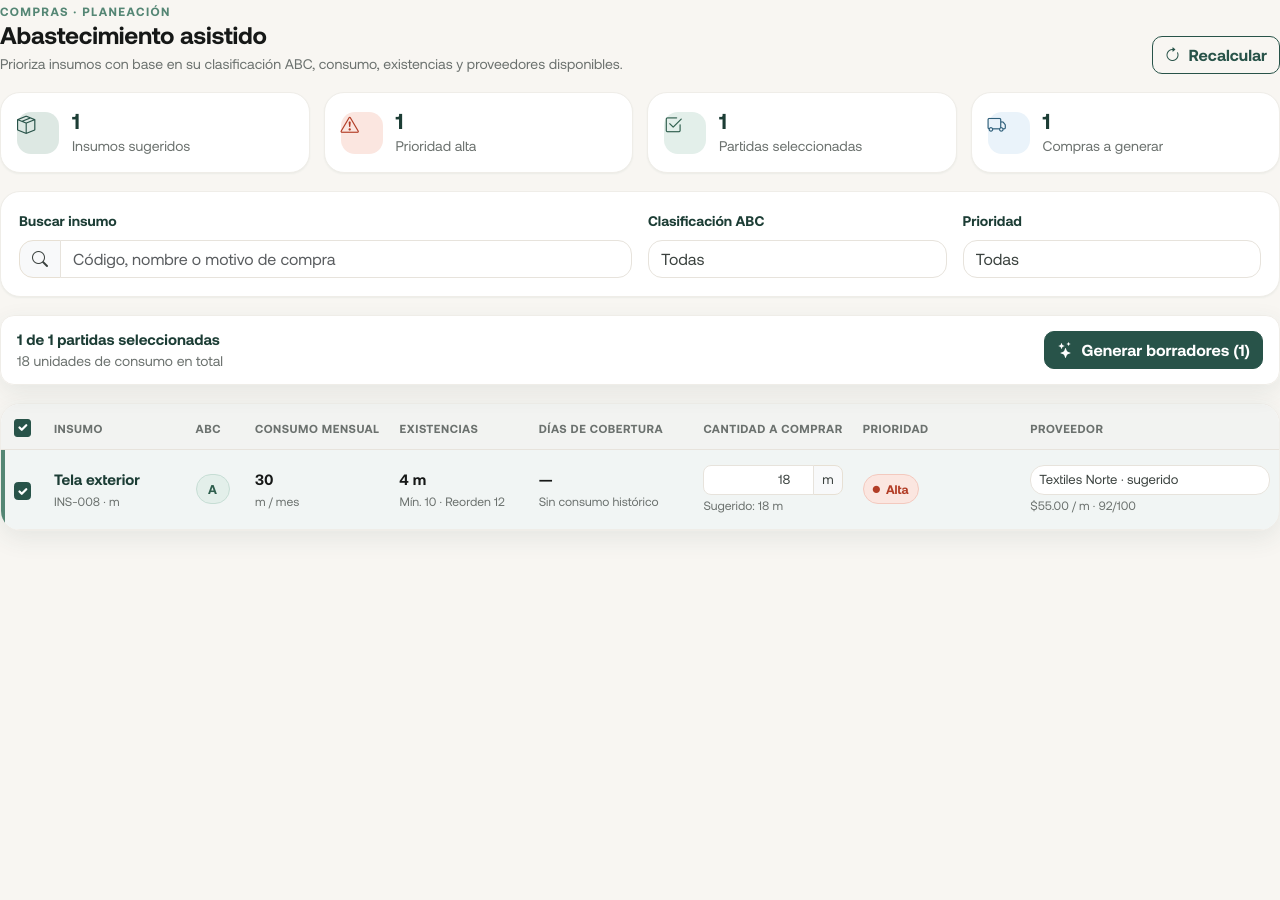
Scenario: AbastecimientoAsistidoPage › conserva el éxito y evita reintentar la generación si falla la recarga
The width and height of the screenshot is (1280, 900).
expect the text "Tela exterior" is shown: met, box [54,470,140,488]
Click the button "Generar borradores (1)".
click(1154, 350)  # box [1044,331,1263,369]
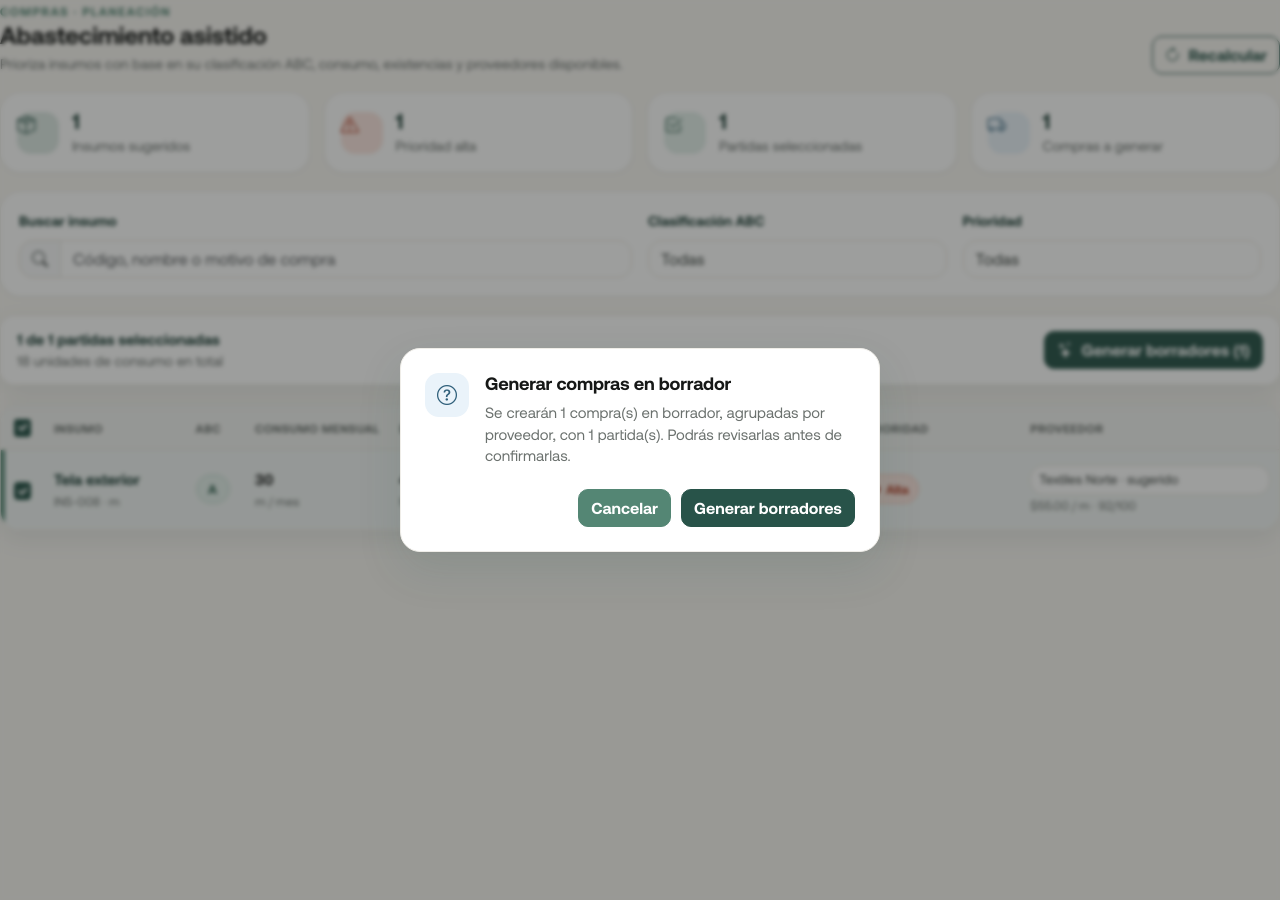
Click the button "Generar borradores".
click(768, 508)  # box [681,489,855,527]
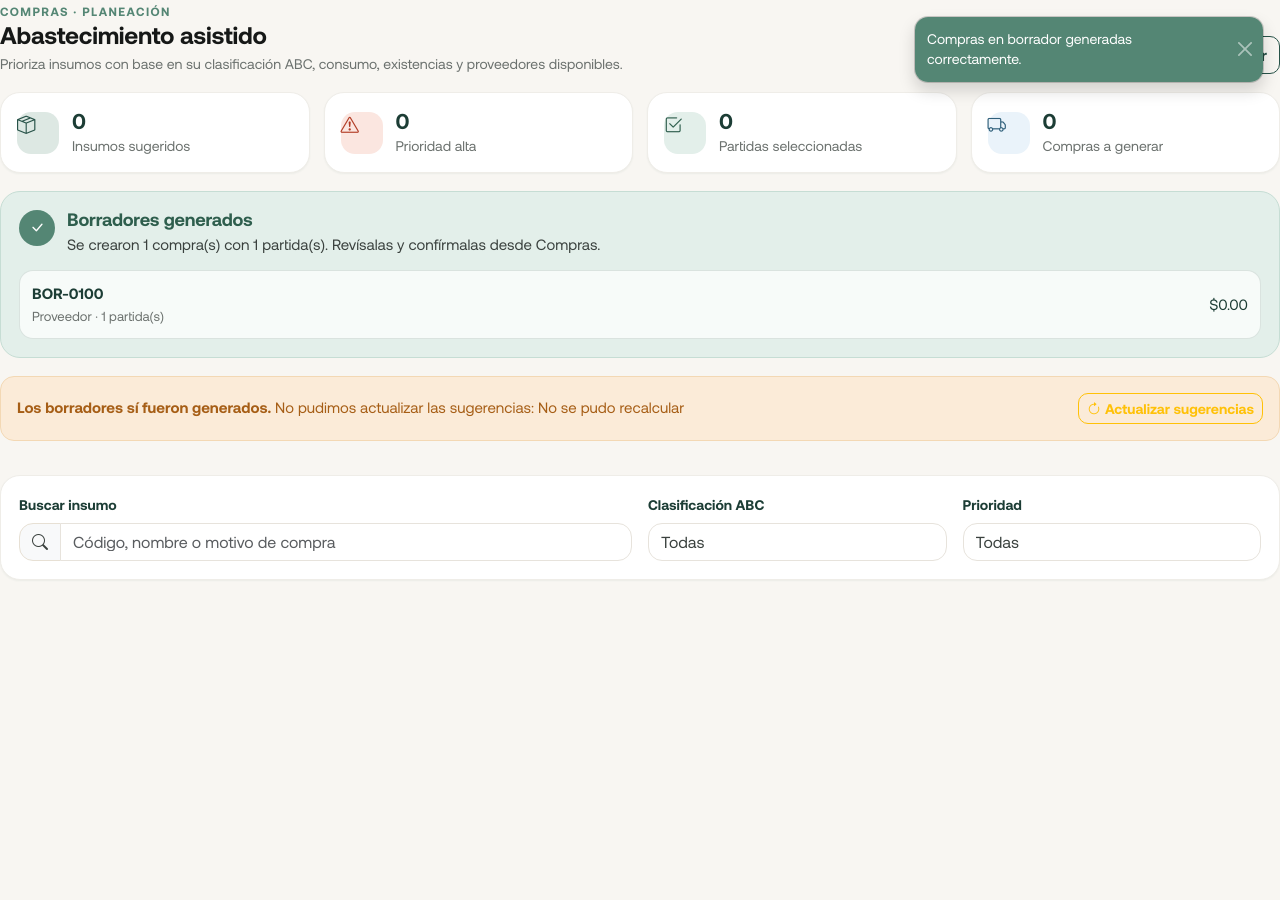
expect the heading "Borradores generados" is shown: met, box [67,208,253,230]
expect the text "Los borradores sí fueron generados." is shown: met, box [17,398,271,416]
expect the button "Actualizar sugerencias" is shown: met, box [1078,393,1263,424]
